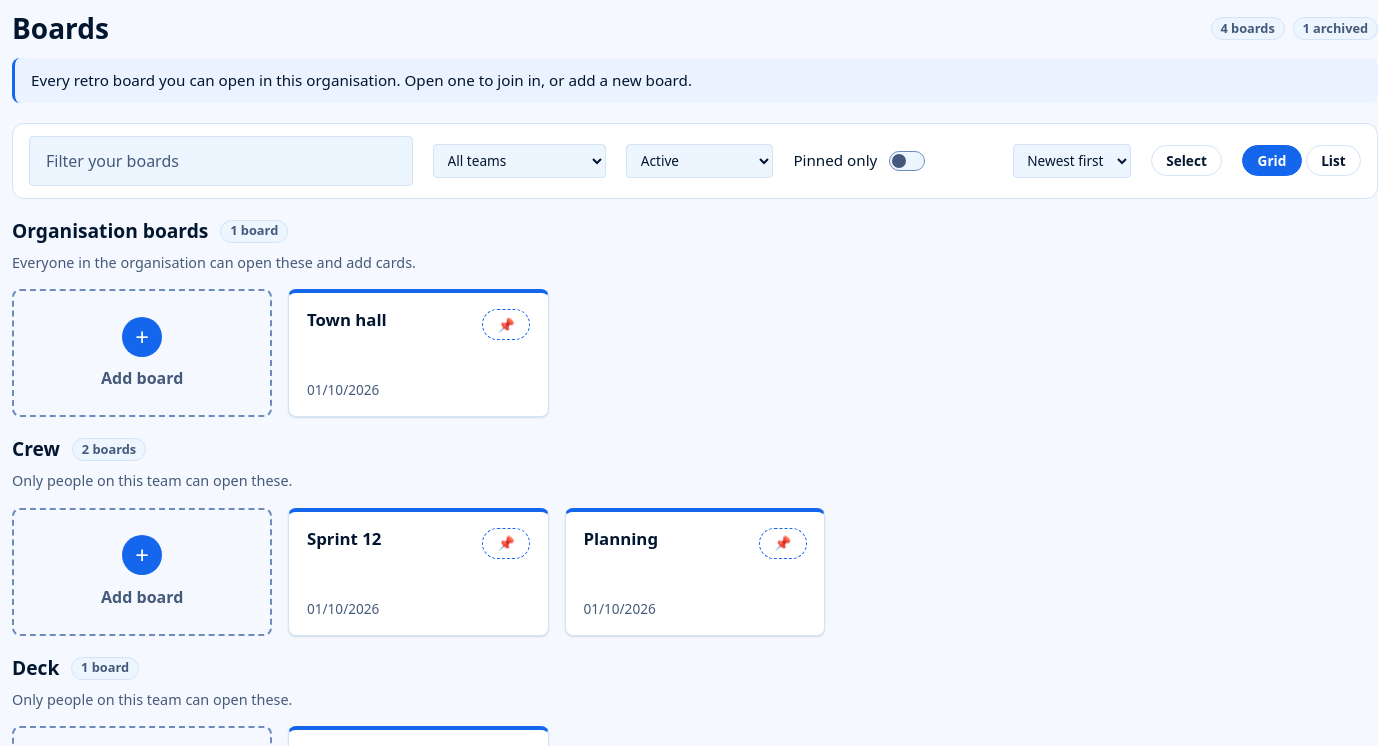
Scenario: OrgBoardsPage › says when nothing matches the filter
The width and height of the screenshot is (1378, 746).
Type "zzz" into the search field labelled "Filter your boards". click: (221, 161)
box: [29,136,413,186]
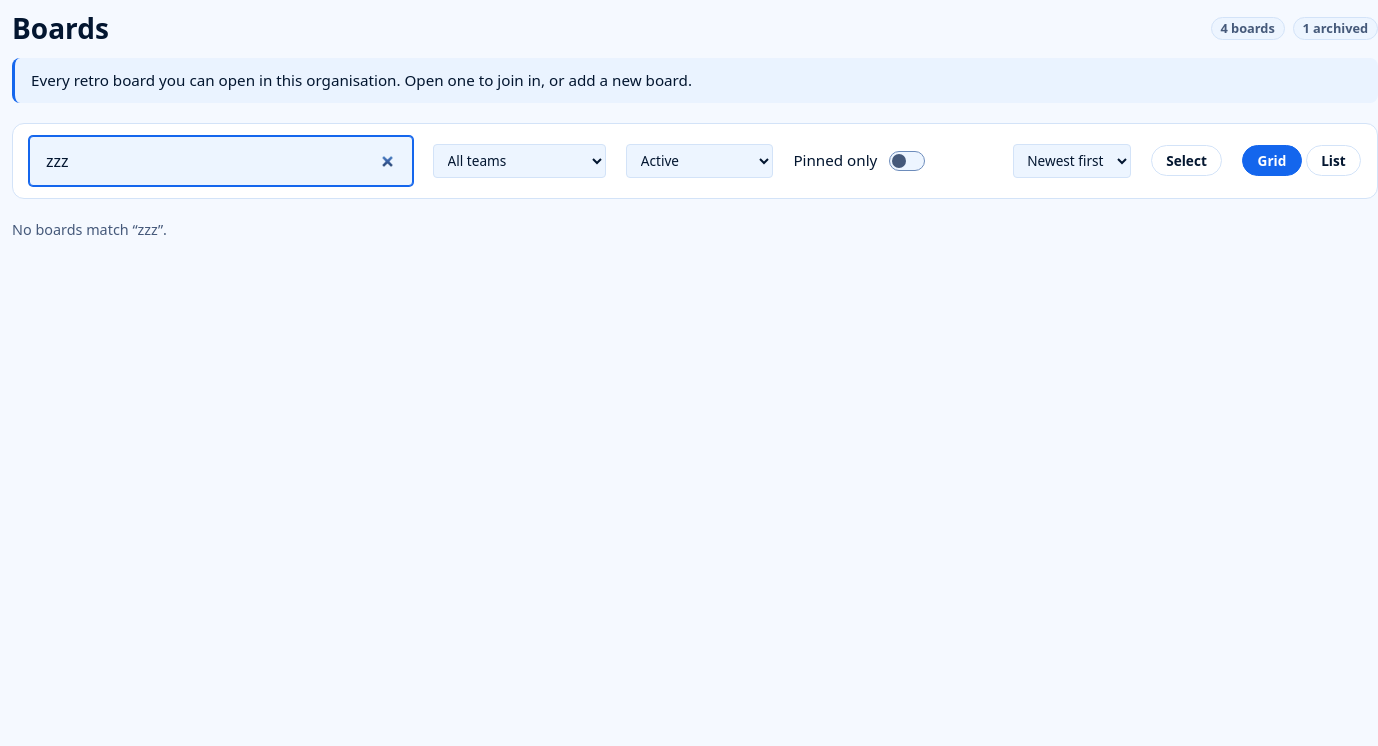
Result: the text "No boards match “zzz”." is shown at [12,220,167,239]
